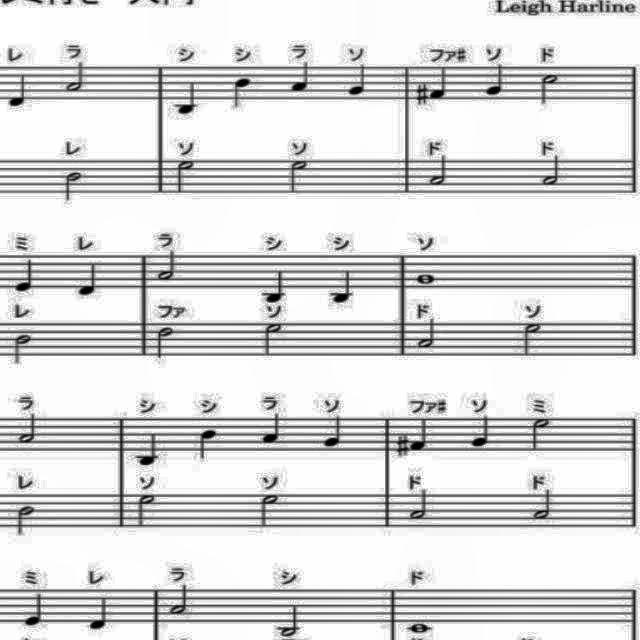Diez: (414, 80, 431, 108)
Full-note: (412, 265, 438, 287), (406, 617, 432, 635)
Half-note: (510, 321, 550, 359), (534, 154, 570, 194), (260, 322, 292, 362), (154, 324, 186, 360), (56, 168, 84, 208), (153, 247, 181, 286), (414, 316, 444, 352), (275, 602, 305, 638), (531, 485, 559, 523), (534, 68, 562, 104), (254, 493, 282, 529), (288, 156, 314, 194), (426, 153, 452, 191), (135, 491, 157, 535), (18, 409, 42, 449), (162, 586, 192, 618), (12, 501, 36, 539), (66, 59, 92, 93), (404, 488, 428, 524), (13, 330, 35, 368), (176, 157, 197, 196), (528, 418, 552, 450)
Quarter-note: (323, 268, 361, 308), (76, 256, 108, 298), (169, 81, 201, 121), (343, 63, 373, 105), (86, 592, 114, 634), (136, 432, 168, 468), (13, 258, 41, 298), (320, 414, 348, 454), (22, 588, 50, 628), (262, 270, 290, 306), (194, 428, 222, 464), (259, 412, 287, 448), (428, 64, 452, 104), (290, 62, 316, 98), (230, 77, 254, 115), (408, 417, 432, 455), (3, 73, 29, 107), (484, 62, 508, 98), (470, 414, 494, 450)
